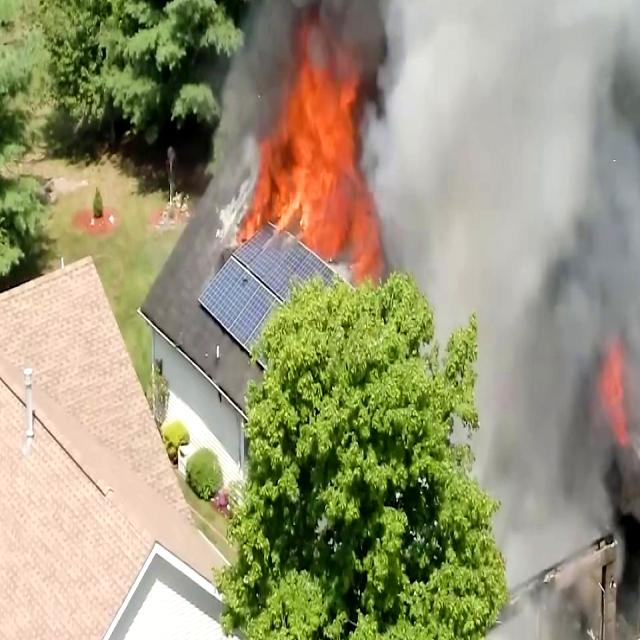fire: (252, 57, 374, 276)
smoke: (386, 0, 620, 231)
